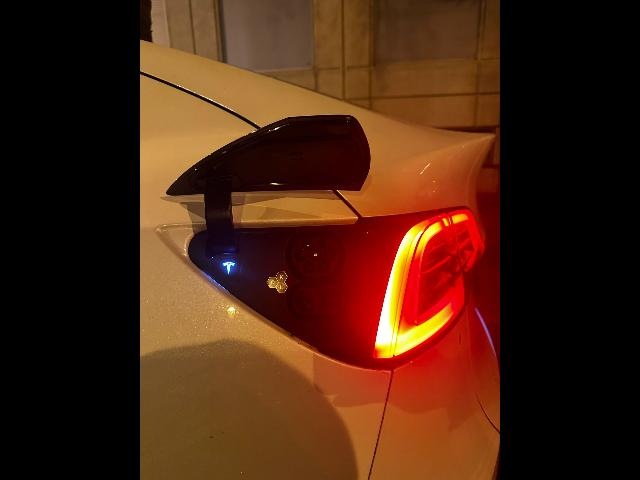inlet: (292, 237, 339, 278)
inlet-above-left: (303, 240, 313, 249)
inlet-above-right: (317, 239, 327, 248)
inlet-below-left: (302, 260, 316, 274)
inlet-below-right: (317, 260, 330, 273)
inlet-circle: (308, 247, 322, 261)
inlet-circle-left: (294, 248, 307, 261)
inlet-circle-right: (324, 247, 336, 260)
inlet-minus: (320, 289, 341, 311)
inlet-plus: (295, 291, 315, 313)
